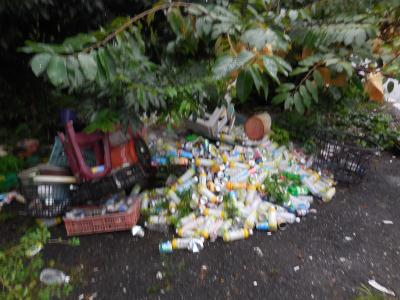bottle: (38, 268, 69, 286), (195, 182, 219, 205), (189, 154, 221, 170), (221, 228, 254, 243), (172, 237, 200, 252), (266, 205, 279, 232), (24, 241, 42, 257)
bucket: (109, 138, 152, 174), (241, 107, 278, 144)
